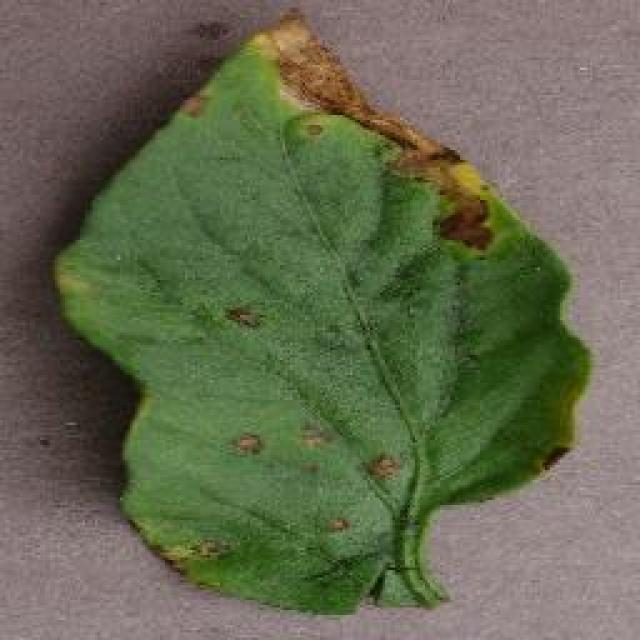bacterial spot: (54, 8, 595, 616)
